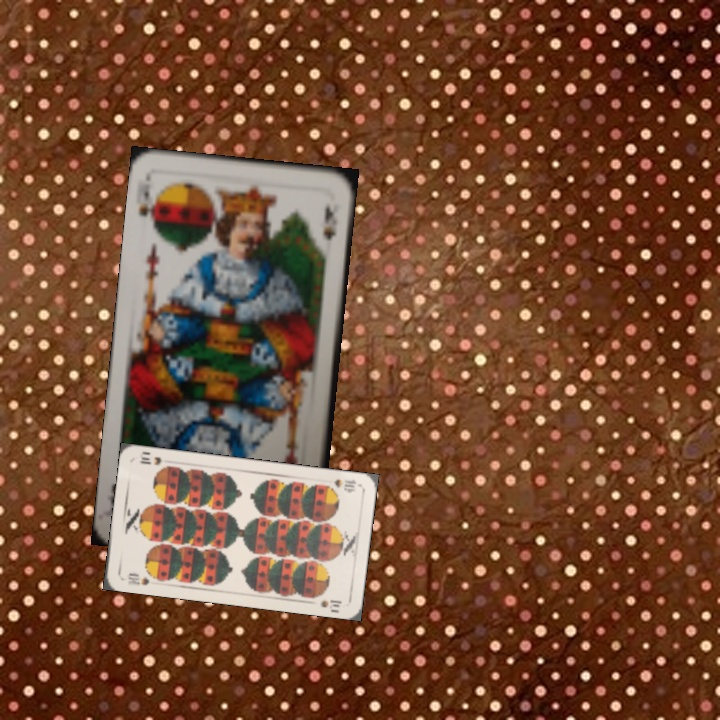S10: (329, 475, 361, 494), (123, 569, 152, 588)
SK: (134, 186, 161, 232)
